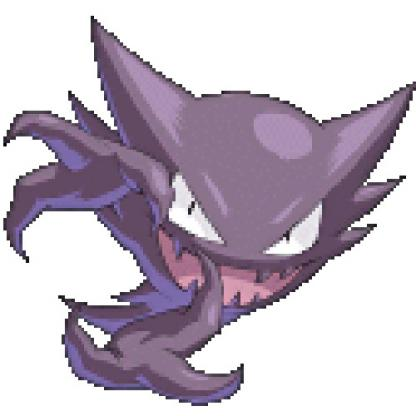Haunter: (1, 19, 416, 416)
